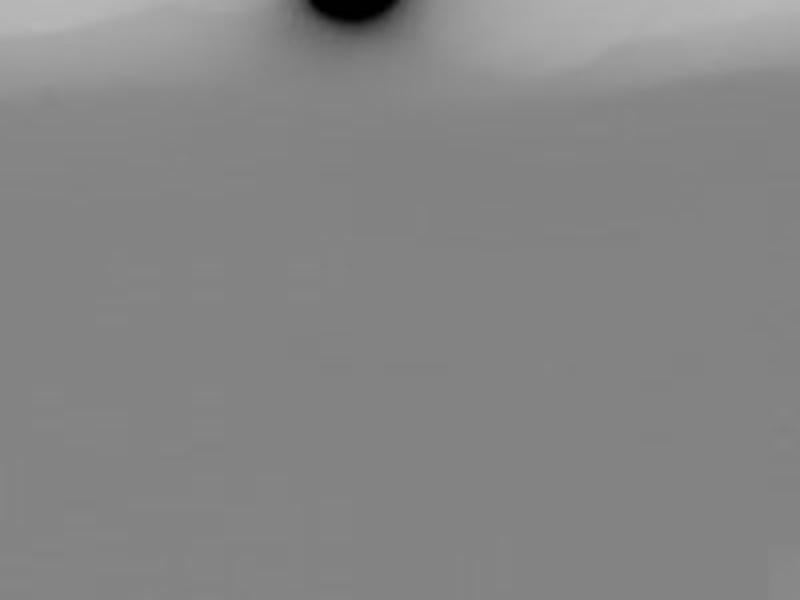defect: (310, 1, 403, 26)
